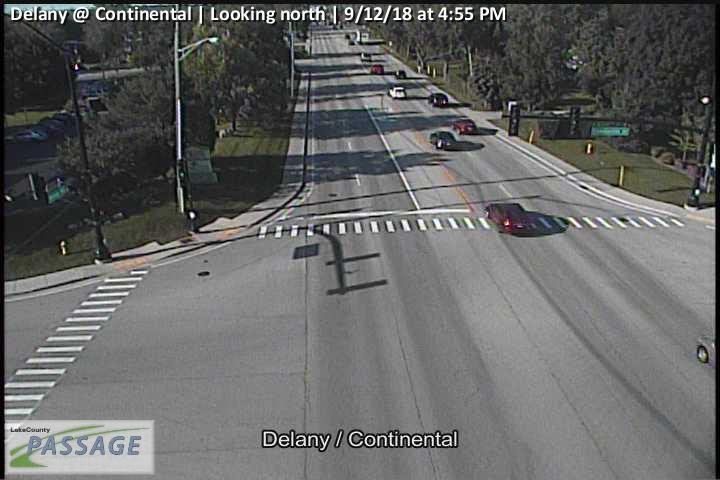Sedan: (485, 203, 534, 237), (430, 131, 457, 150), (453, 118, 477, 135), (428, 92, 448, 107), (388, 84, 406, 99)
